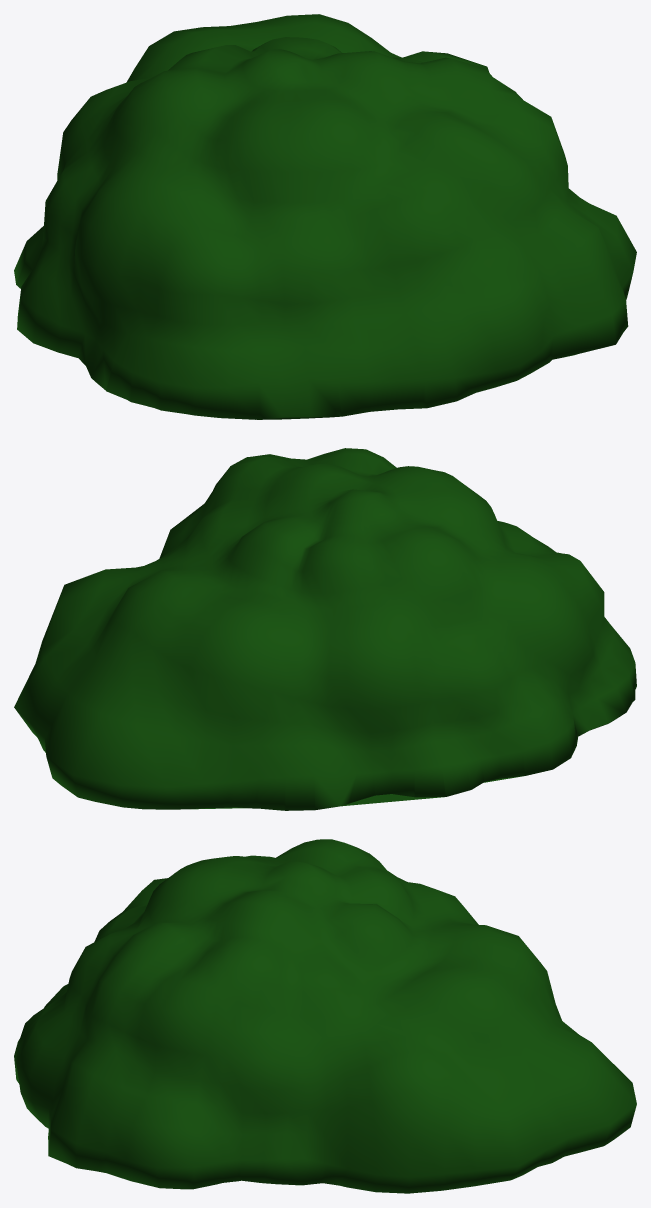
Rendered from Bush_2.fbx.
3 views of the same model, one above another, from view 1: azimuth 30°, elevation 25°; view 2: azimuth 150°, elevation 25°; view 3: azimuth 270°, elevation 25° (orthographic). The views are drawn at different scales.
Visible parts, largest first — view 1: Bush_2; view 2: Bush_2; view 3: Bush_2.
Part boxes in pixels (box(x1,y1,x2,y2)): Bush_2: box(14, 14, 636, 419); Bush_2: box(14, 448, 636, 810); Bush_2: box(14, 839, 636, 1193).
Size of the model in its own units: 332 by 141 by 387.
